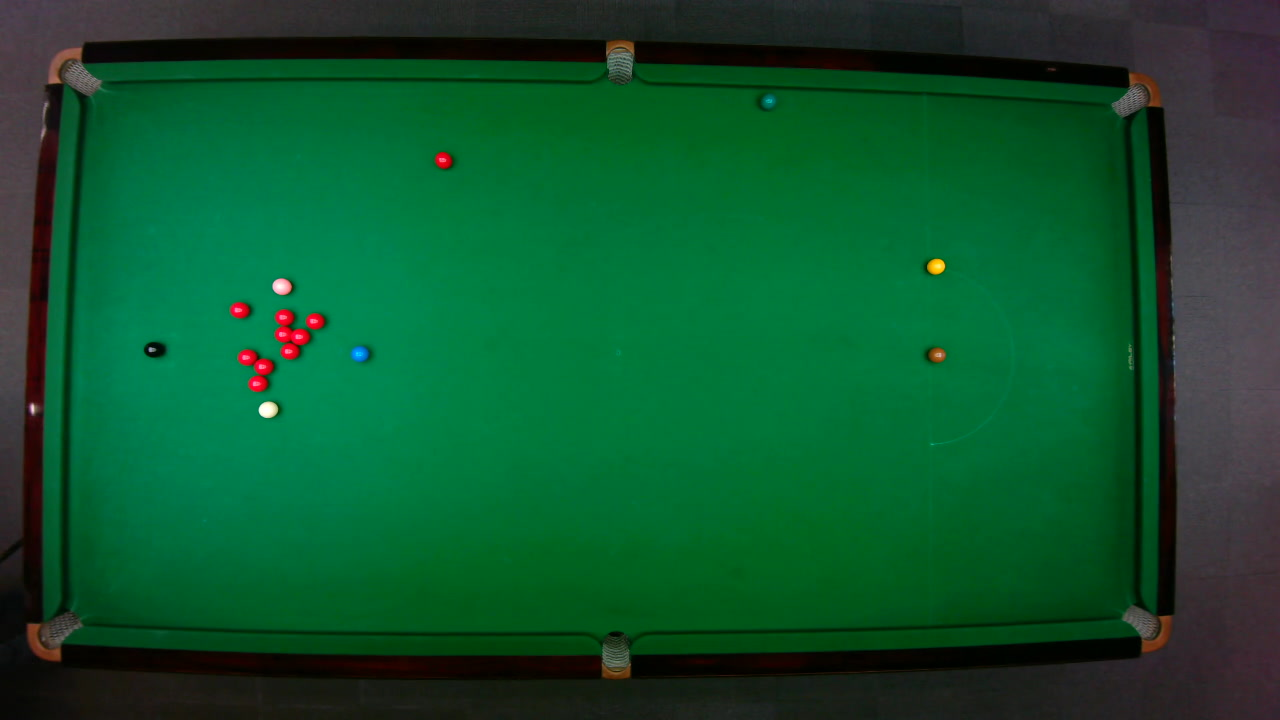bag: (25, 608, 83, 662), (46, 46, 102, 96), (1118, 603, 1172, 652), (1108, 71, 1161, 118), (601, 629, 629, 680), (605, 38, 633, 85)
black: (142, 340, 163, 357)
blue: (350, 344, 369, 362)
brown: (926, 346, 946, 362)
green: (758, 92, 777, 110)
pink: (270, 276, 292, 295)
red: (287, 326, 310, 345), (252, 356, 274, 375), (246, 374, 268, 392), (228, 300, 250, 318), (236, 347, 258, 365), (433, 150, 453, 169), (273, 307, 294, 325), (304, 311, 324, 329), (273, 325, 293, 342), (279, 342, 299, 359)
white: (256, 399, 279, 418)
yellow: (925, 257, 945, 274)
zone: (926, 265, 1014, 445)
